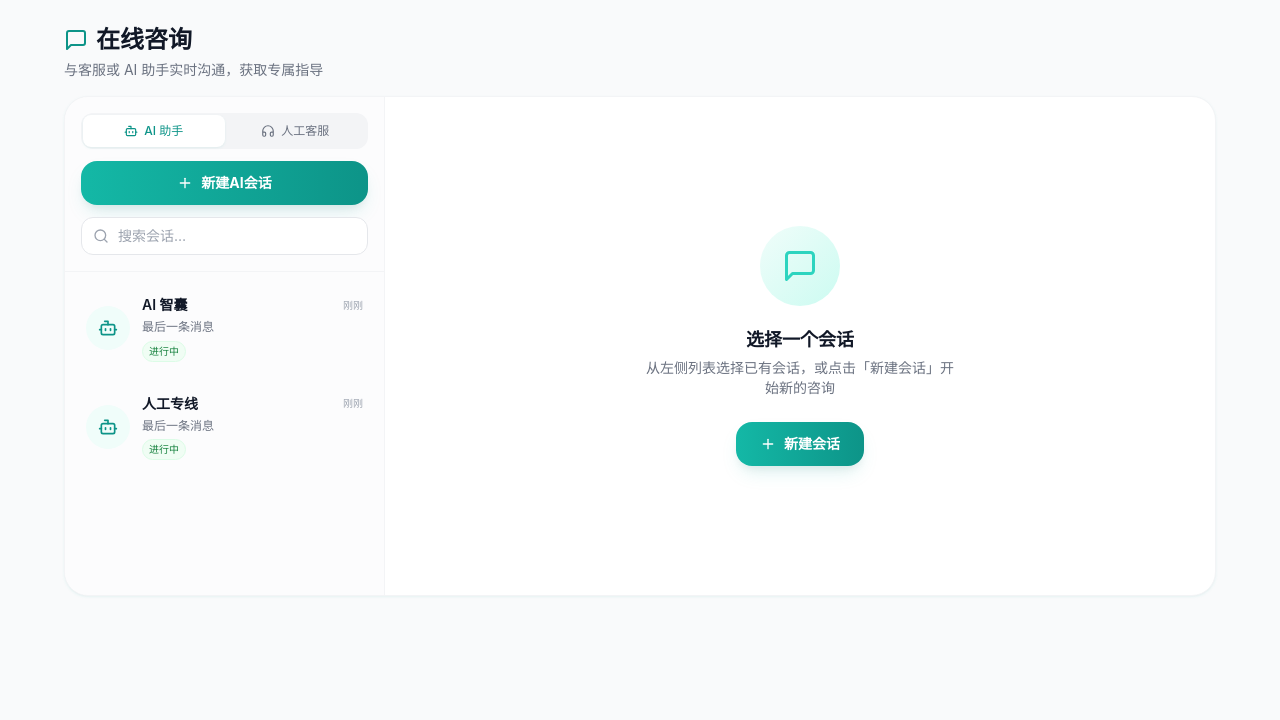
Scenario: Chat 页面 › 已登录 - 会话列表 › 清除搜索关键词恢复完整列表
This screenshot has width=1280, height=720.
Type "AI" into the field with placeholder "搜索会话…". click: (224, 236)
box: [81, 217, 368, 255]
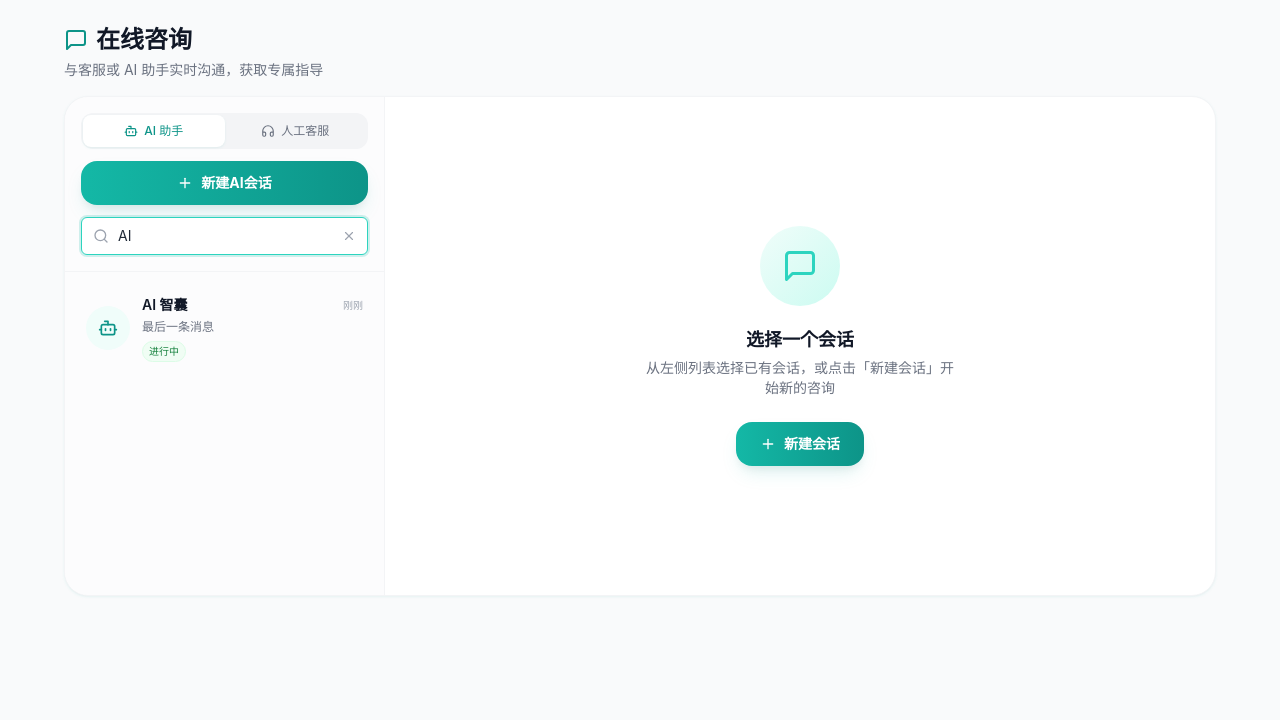
Check: the text "AI 智囊" is shown, box [142, 295, 188, 315]
Check: the button "人工专线" is gone
// 清除搜索框内容（直接清空输入并触发 change）
Clear the field with placeholder "搜索会话…". click: (224, 236)
box: [81, 217, 368, 255]
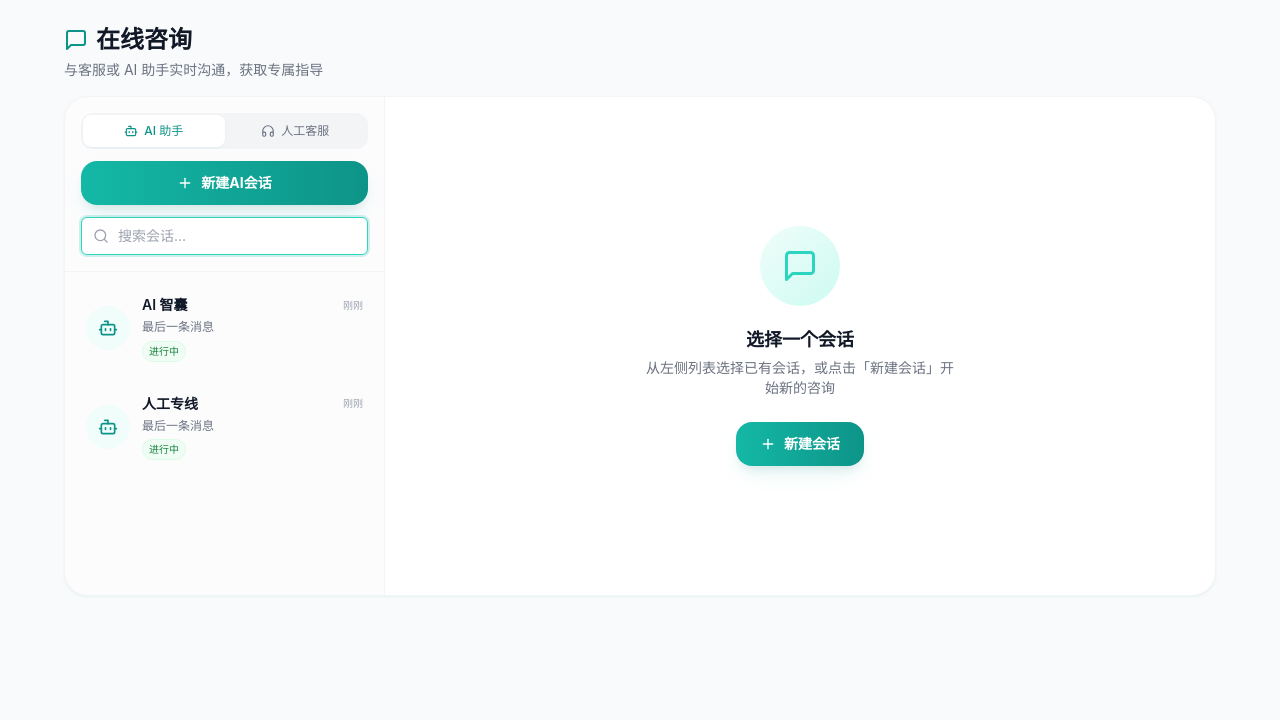
Check: the text "AI 智囊" is shown, box [142, 295, 188, 315]
Check: the text "人工专线" is shown, box [142, 394, 198, 414]
